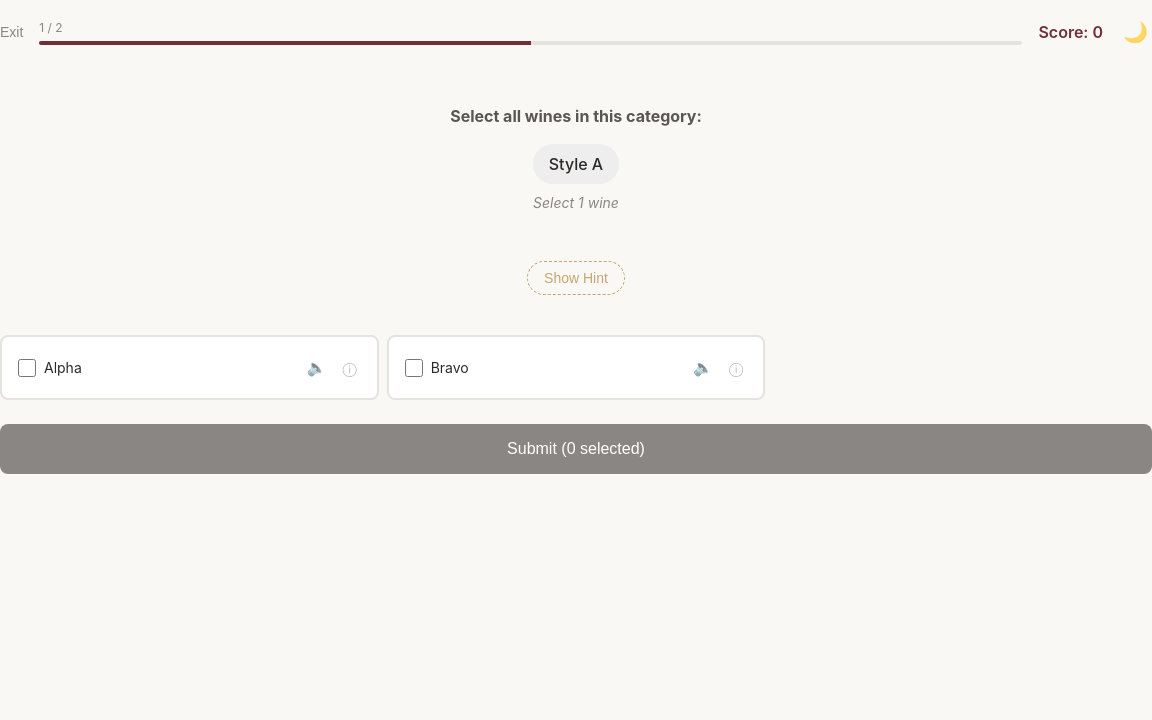
QuizEngine › resets local mode state when consecutive questions share a component
Click the checkbox labelled "Alpha 🔈 ⓘ".
click(27, 368)  # box [18,358,36,376]
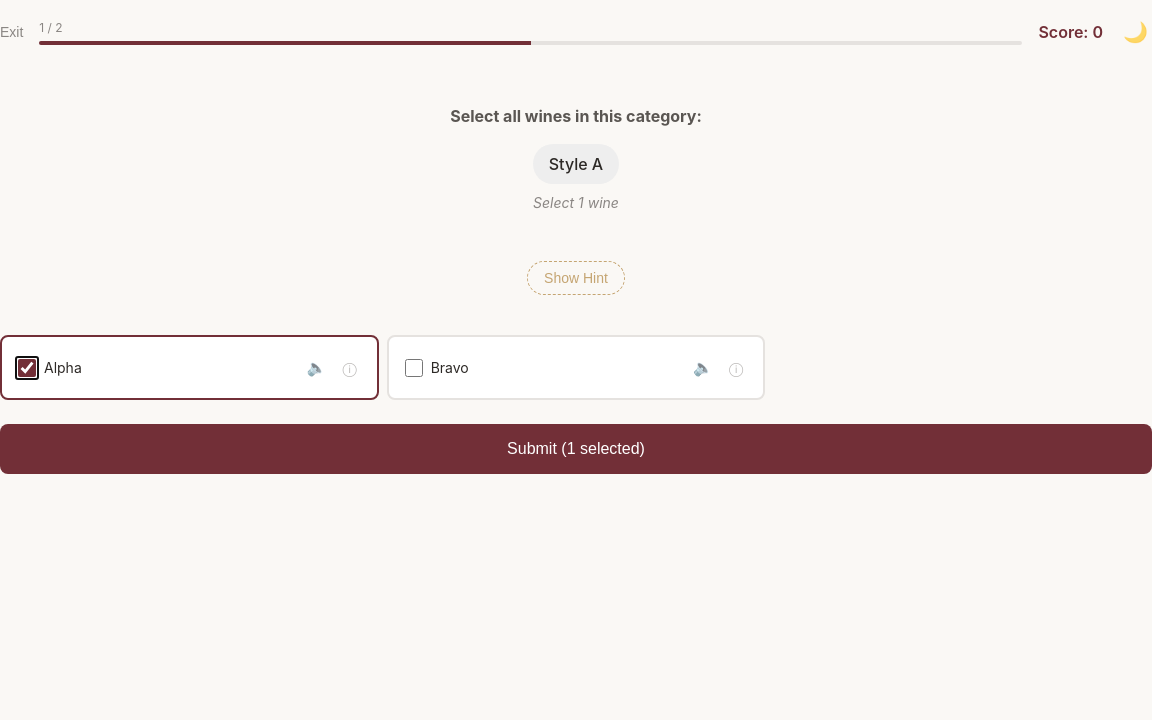
Result: the button "Submit (1 selected)" is enabled
Click the button "Submit (1 selected)".
click(576, 449)  # box [0,424,1151,474]
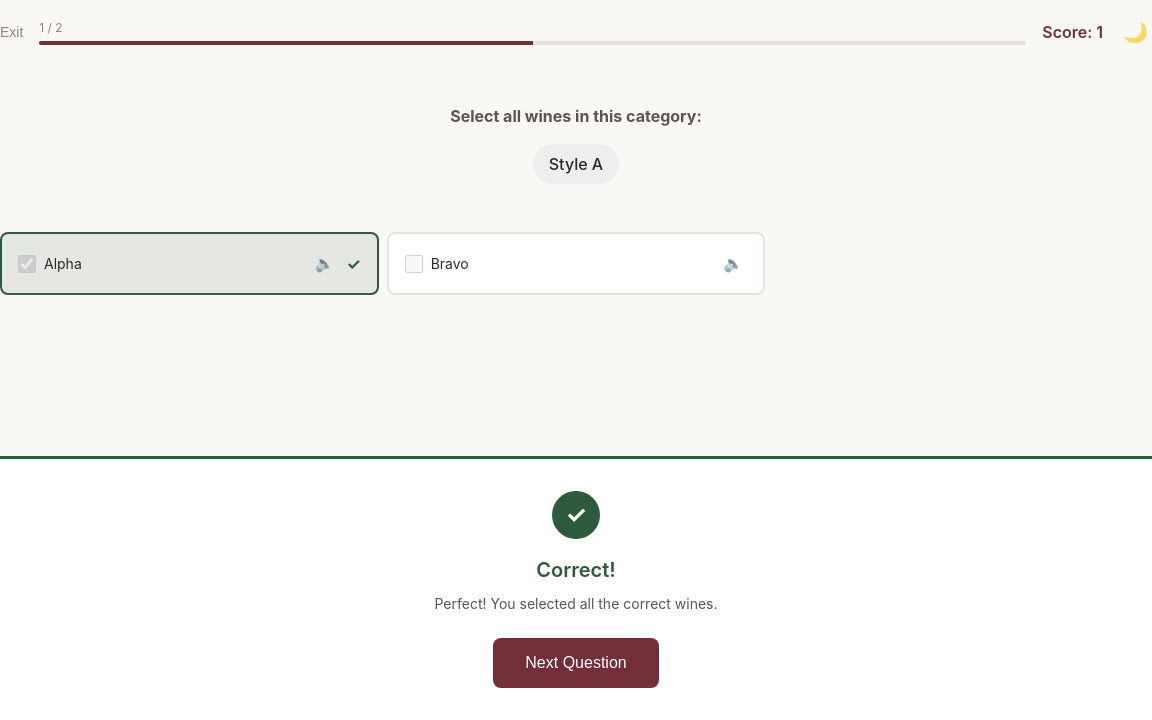
Click the button "Next Question".
click(576, 663)  # box [493,638,659,688]
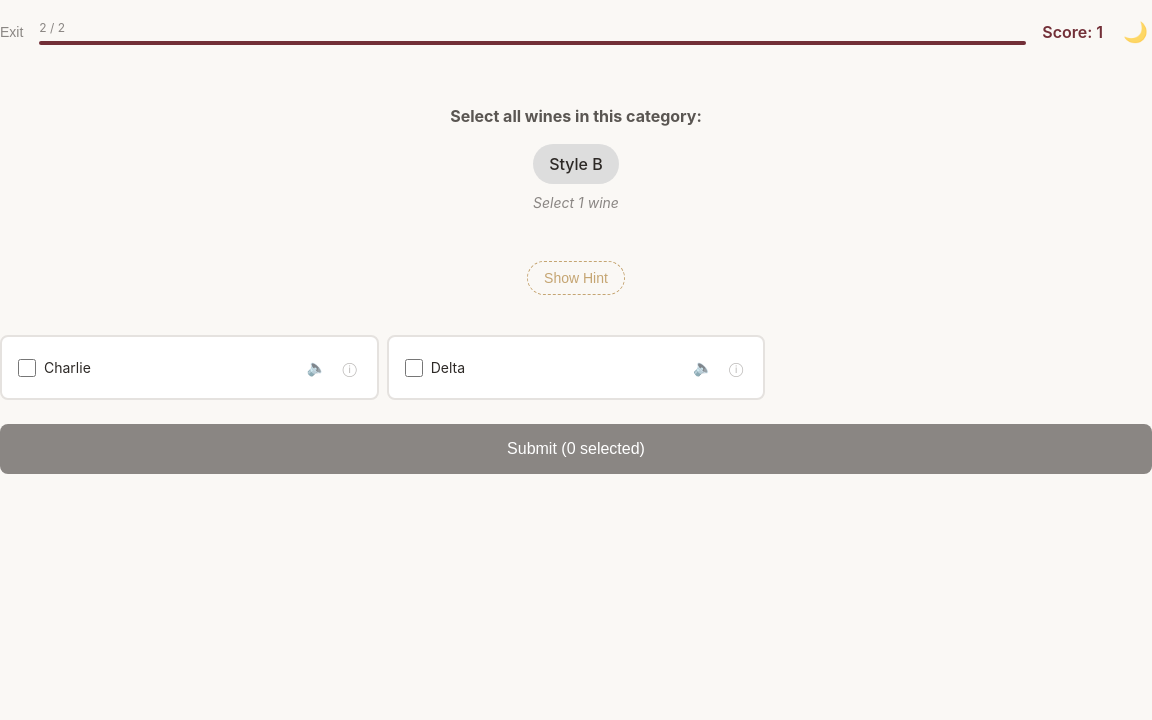
Result: the text "2 / 2" is shown at [39,20,65,35]
Result: the text "Style B" is shown at [533,144,619,184]
Result: the checkbox labelled "Charlie 🔈 ⓘ" is not checked at [18,358,36,376]
